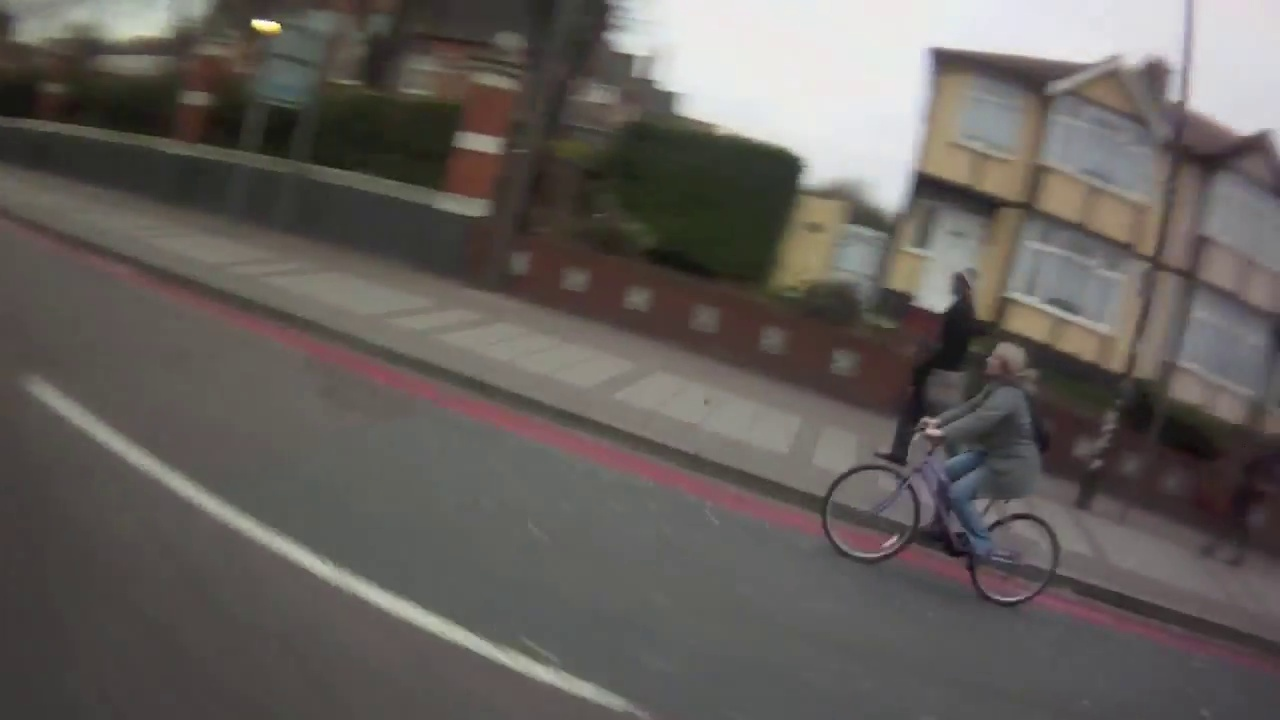cyclist_side: (812, 328, 1075, 605)
